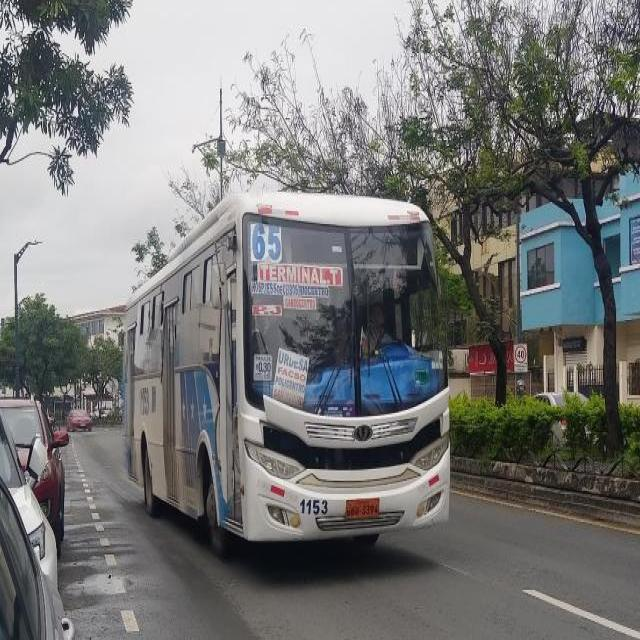BUS: (126, 194, 459, 557)
